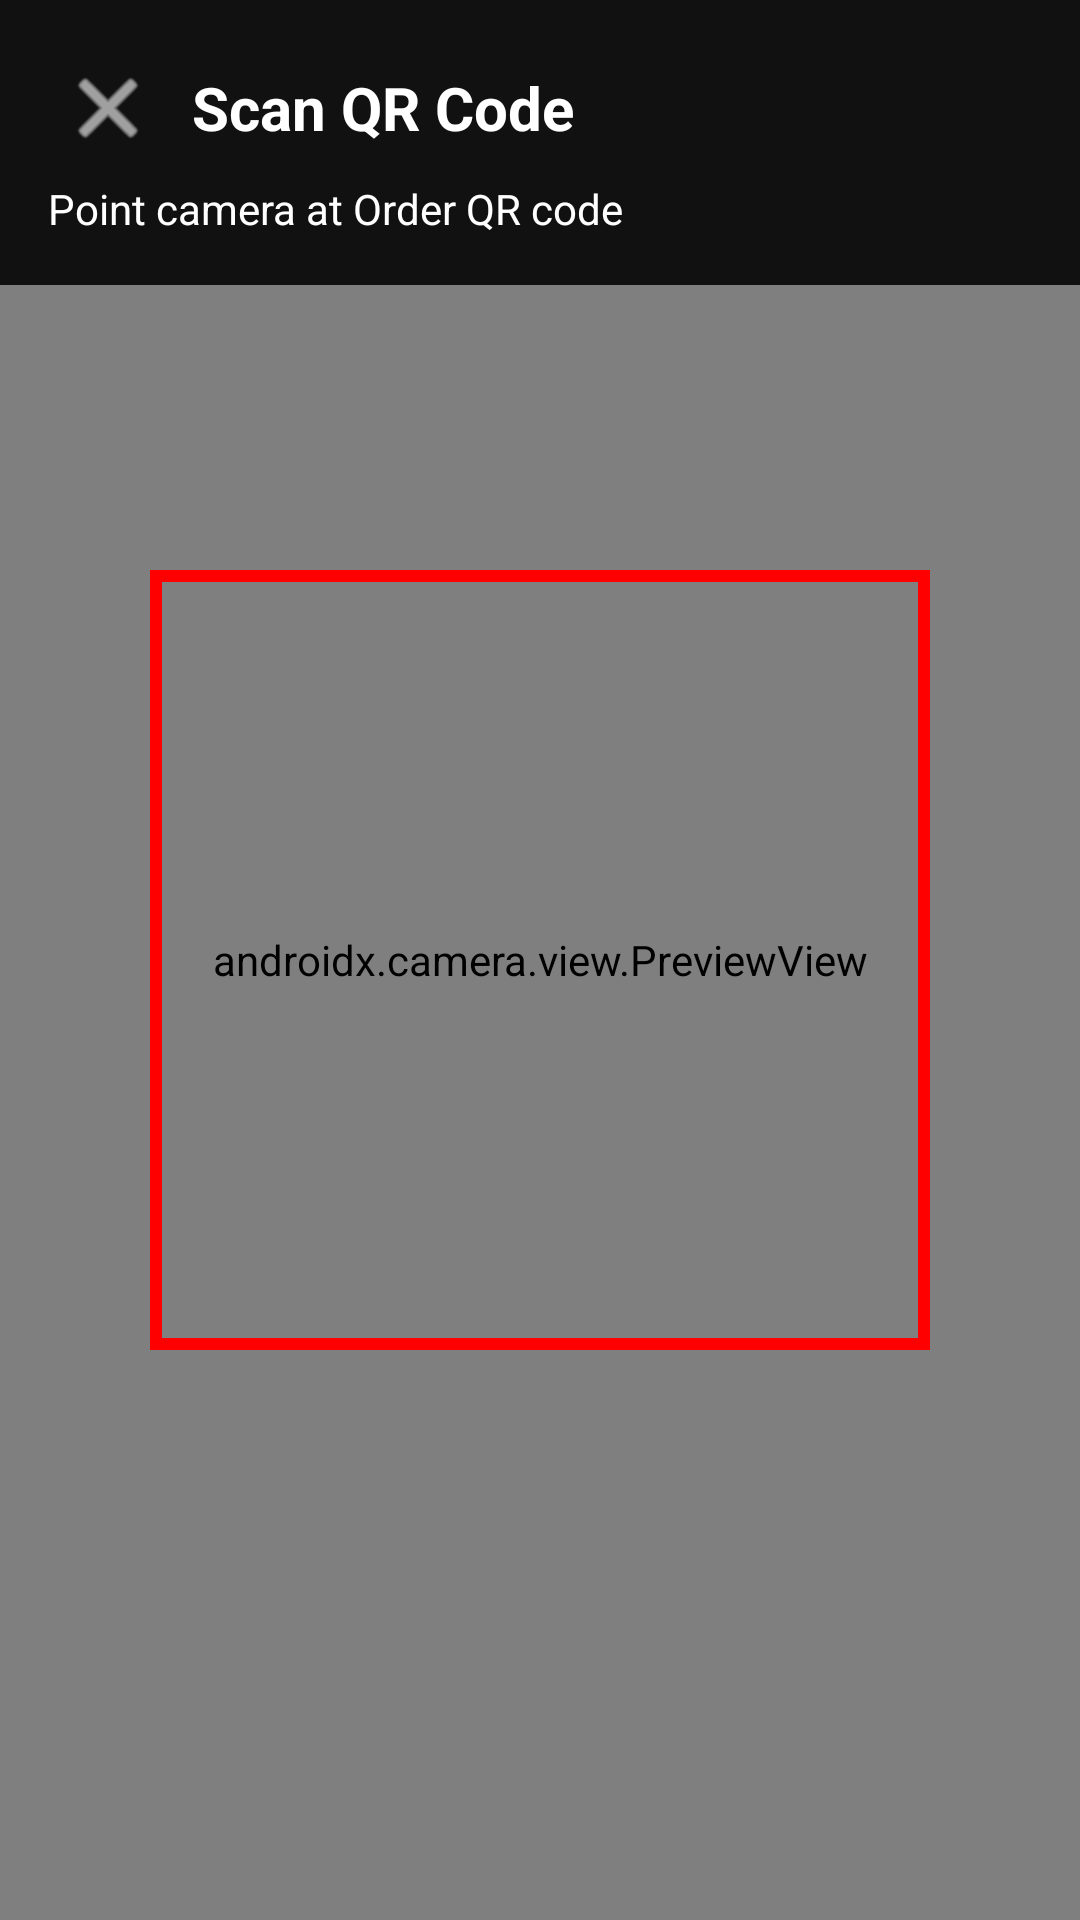

Icon bounding boxes for this 1080 × 1920 phone screenshot, format (x1, y1, x2, y2):
Back: (78, 78, 138, 138)
